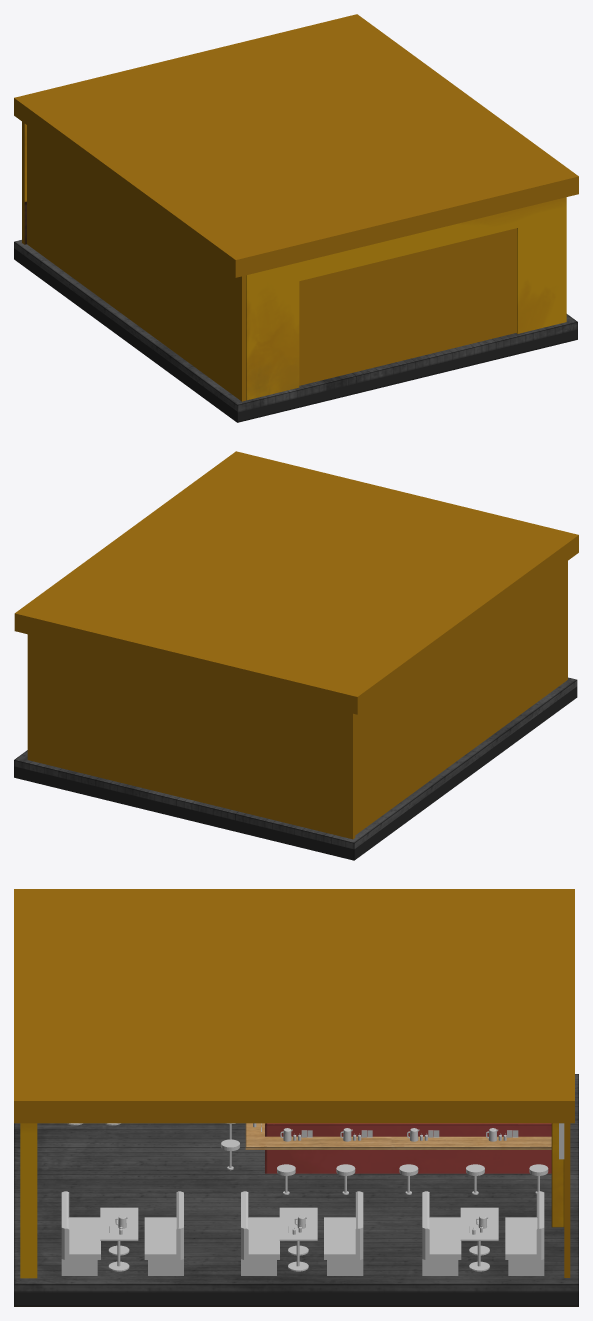
File: Yellow Restaurant02.fbx
The picture shows the model from 3 angles, top to bottom: view 1: azimuth 30°, elevation 25°; view 2: azimuth 150°, elevation 25°; view 3: azimuth 270°, elevation 25°; orthographic projection. The views are drawn at different scales.
Parts seen in each view (by area): view 1: Cube.015, Cube.011, Cube.006, Cube.022, Cube.005, Cube.008; view 2: Cube.015, Cube.008, Cube.011, Cube.005; view 3: Cube.015, Cube.005, Cube.016, Cube.021, Cube.022, Cube.082, Cube.033, Cube.034, Cube.029, Cube.025, Cube.038, Cube.023 (+7 smaller).
Part boxes in pixels (x1,y1,x2,y2): Cube.015: (14,14,578,277); Cube.011: (27,125,245,401); Cube.006: (299,228,516,385); Cube.022: (246,197,566,400); Cube.005: (14,240,577,422); Cube.008: (22,121,26,244); Cube.015: (14,451,578,714); Cube.008: (27,634,355,839); Cube.011: (355,561,567,834); Cube.005: (14,677,577,860); Cube.015: (14,889,574,1123); Cube.005: (14,1074,578,1306); Cube.016: (265,1123,551,1173); Cube.021: (245,1123,551,1149); Cube.022: (20,1123,37,1278); Cube.082: (505,1191,544,1275); Cube.033: (61,1191,100,1275); Cube.034: (324,1191,363,1275); Cube.029: (144,1191,183,1275); Cube.025: (422,1191,461,1275); Cube.038: (241,1191,279,1275); Cube.023: (551,1123,564,1227).
Bounding box in the file's own units: 517 × 235 × 582.
